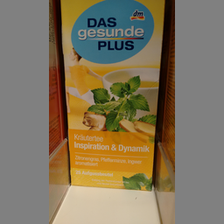tea: (60, 1, 165, 193)
